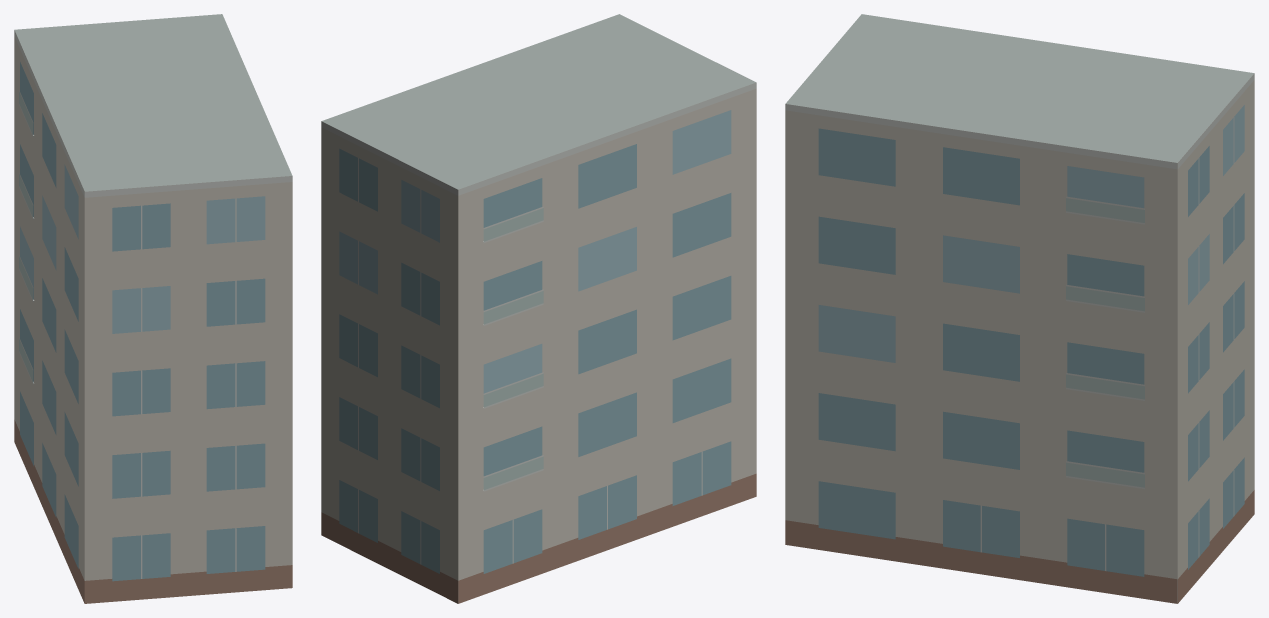
File: survey-upis-32893542.glb
3 renders of one model, left to right at view 1: azimuth 30°, elevation 25°; view 2: azimuth 150°, elevation 25°; view 3: azimuth 270°, elevation 25°, orthographic. The views are drawn at different scales.
Parts seen in each view (by area): view 1: survey-upis-32893542.tmp; view 2: survey-upis-32893542.tmp; view 3: survey-upis-32893542.tmp.
Boxes of the visible parts, box(x1,y1,x2,y2) form: survey-upis-32893542.tmp: box(14, 14, 292, 603); survey-upis-32893542.tmp: box(321, 14, 756, 603); survey-upis-32893542.tmp: box(785, 14, 1254, 603).
Bounding box in the file's own units: 12.04 × 16.6 × 16.02.
